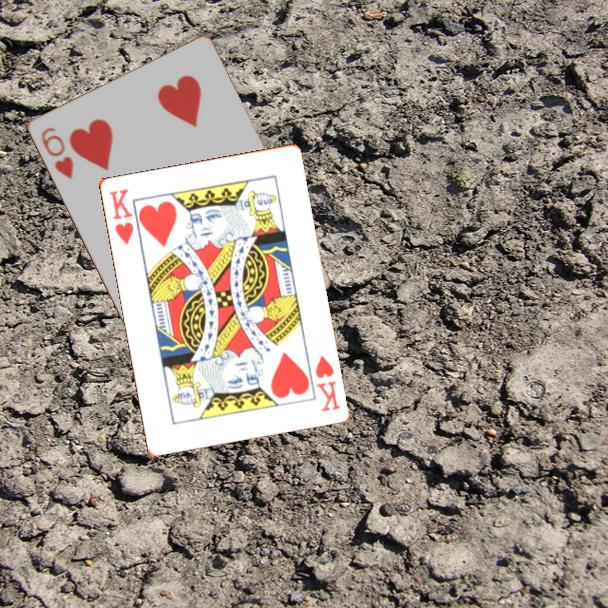h06: (37, 123, 76, 182)
h13: (311, 351, 343, 414), (105, 185, 136, 247)
